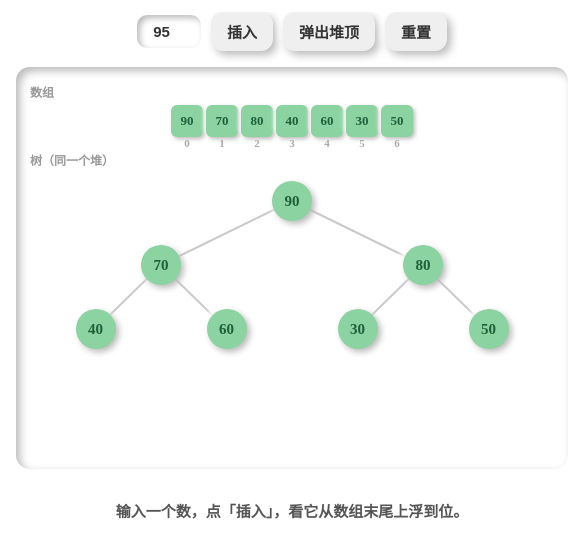
Test: HeapViz › TC-VIZ-HEAPVIZ-08 非法值提示、不增
Replace the text in the number field named "值" with "0": (169, 32) [137,15,201,48]
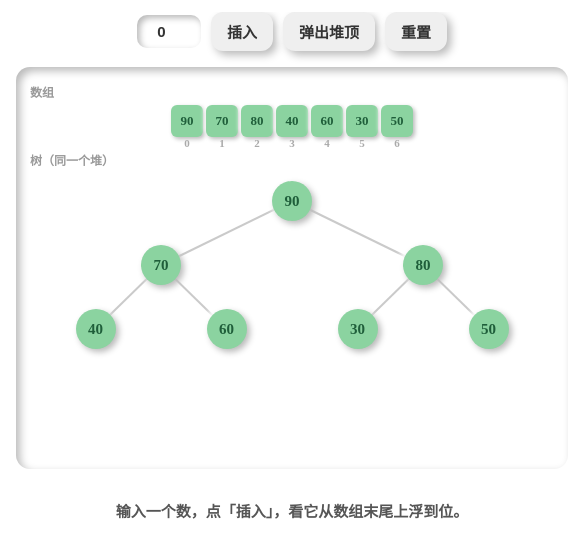
Click the button "插入": (242, 32) [211,12,273,51]
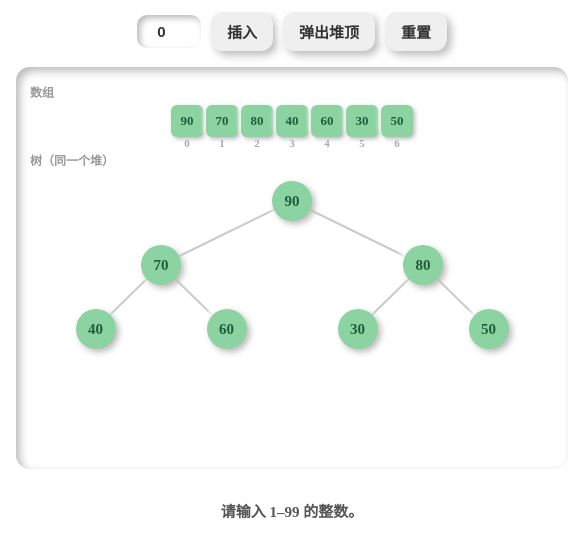
Result: the message with class "status" shows "请输入" at [221,504,363,520]
